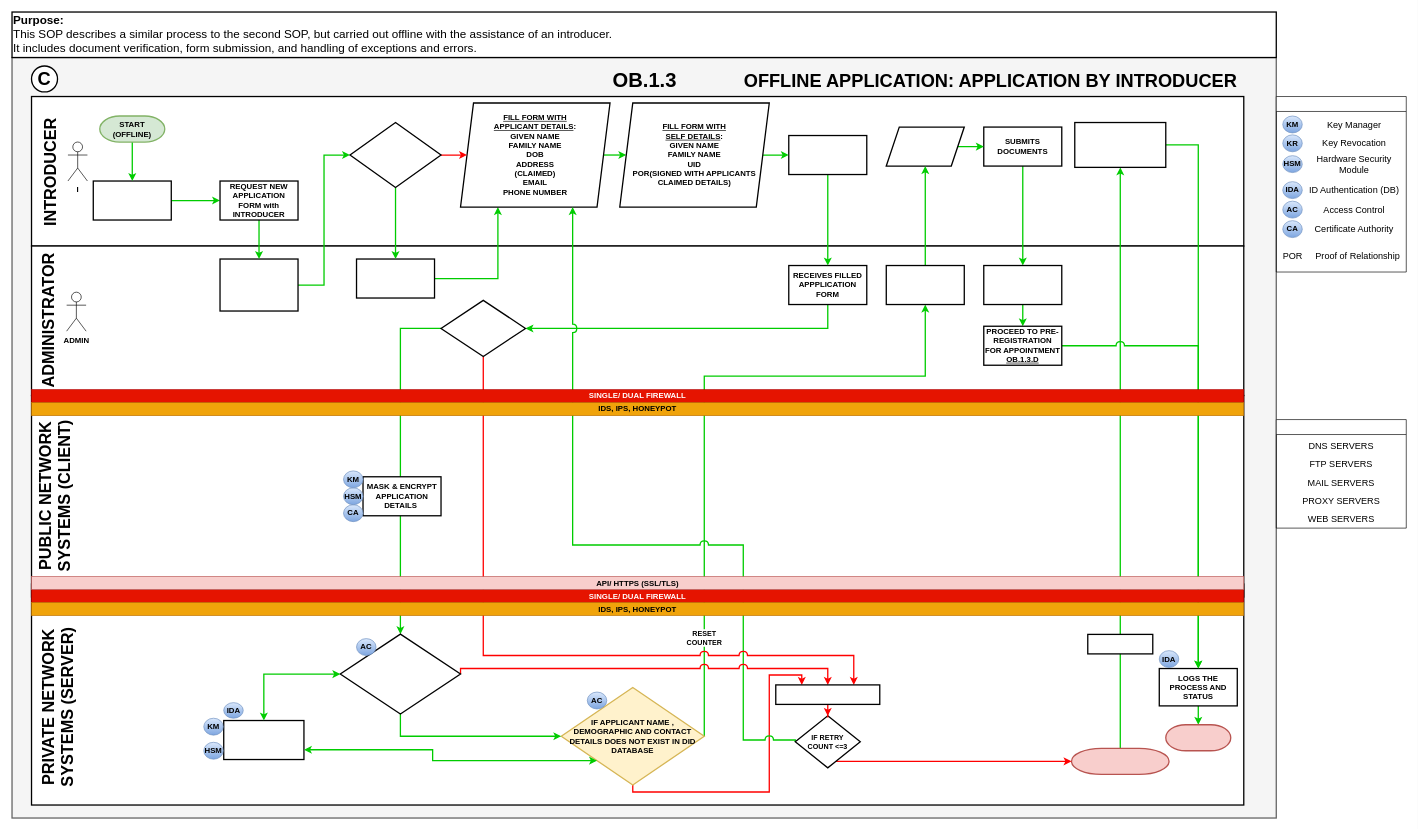
Image size: 1418x829. Some labels were removed from this diagram. Each missing label, with the box of its shape:
ATTACHES APPLICATION FORM WITH PHOTOCOPIES: (983, 265, 1062, 305)
CONFIRMS DETAILS & SIGNS THE DOCUMENT/THUMB IMPRESSION: (788, 135, 867, 175)
DID USER DATABASE: (223, 720, 304, 760)
END: (1165, 724, 1231, 751)
EXCEPTION AND ERROR HANDLING (COUNTER): (775, 684, 880, 705)
HANDS OVER PHYSICAL COPY OF NEW APPLICATION FORM FOR INTRODUCER: (219, 258, 298, 311)
IF INTRODUCER UIN EXIST IN AUTHORISED INTRODUCER DATABASE: (339, 633, 461, 714)
IF INTRODUCER UIN PROVIDED: (440, 299, 526, 357)
IF REQUESTED FOR ASSISTANCE: (349, 122, 441, 188)
LEGEND: (1276, 96, 1406, 272)
NOTIFICATION GENERATOR: (1087, 633, 1153, 654)
PROVIDES ASSISTANCE TO FILL THE FORM: (356, 258, 435, 298)
PROVIDES PHOTOCOPIES OF POI, POA & POR: (885, 126, 965, 166)
PUBLIC NETWORK: (1276, 419, 1406, 528)
RECEIVE APPLICATION REJECTED ACKNOWLEDGEMENT: (1074, 122, 1166, 168)
REQUESTS PHOTOCOPIES OF POI, POA & POR: (885, 265, 965, 305)
TERMINATE PROCESS: WITH ERROR MESSAGE: (1071, 747, 1169, 775)
VISIT ENROLMENT CENTER: (92, 180, 172, 220)
